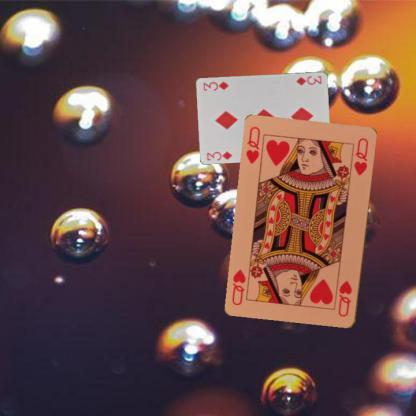3d: (204, 148, 234, 162), (294, 72, 323, 86)
Qh: (244, 124, 262, 165), (336, 278, 354, 318)
